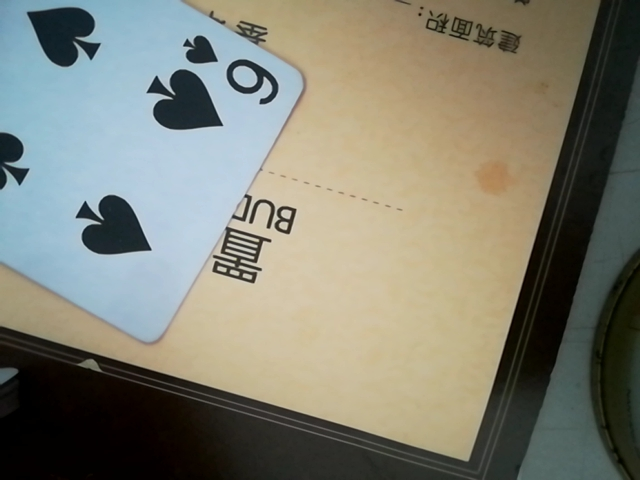ht 6: (0, 0, 315, 349)
